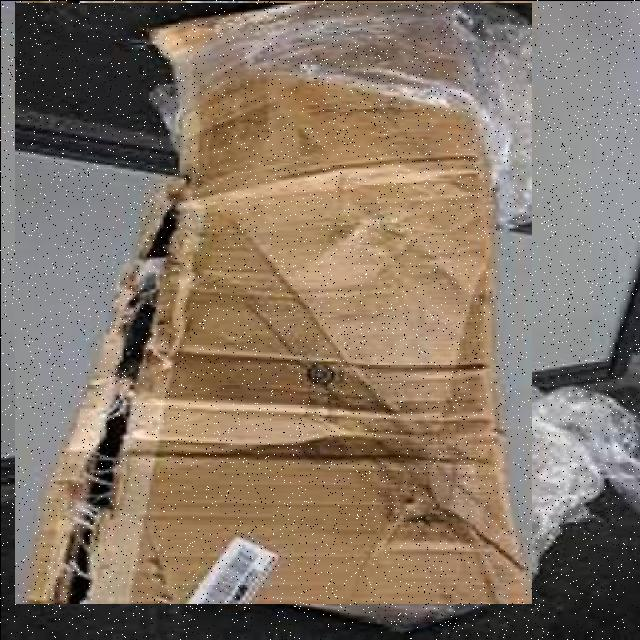defect: (14, 2, 531, 603)
